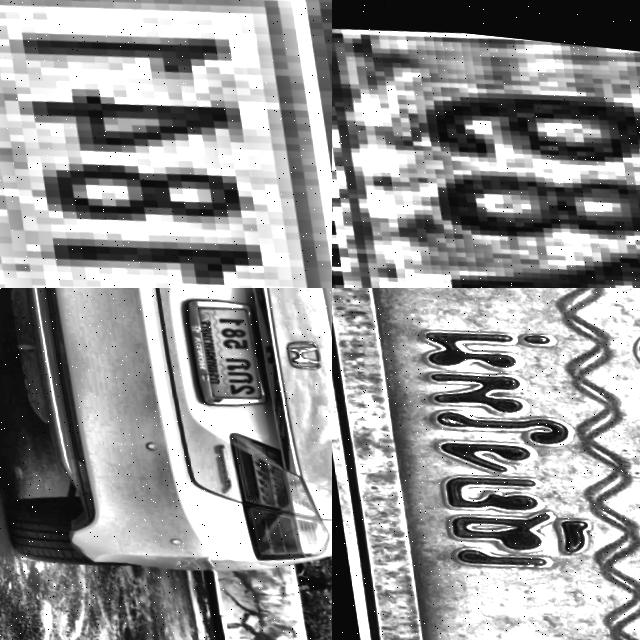license-plate: (332, 288, 640, 640), (0, 0, 332, 288), (332, 0, 640, 288), (174, 288, 270, 405)
